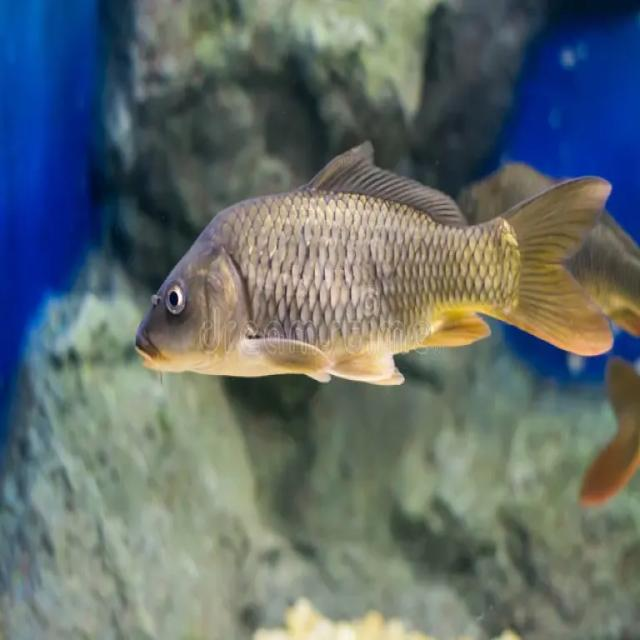Common carp: (134, 140, 616, 385)
